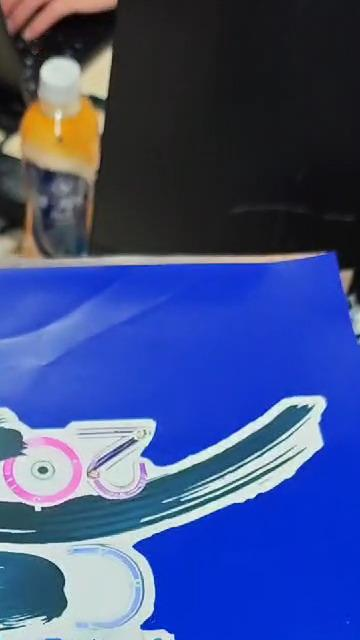B_R1: (0, 379, 345, 640)
